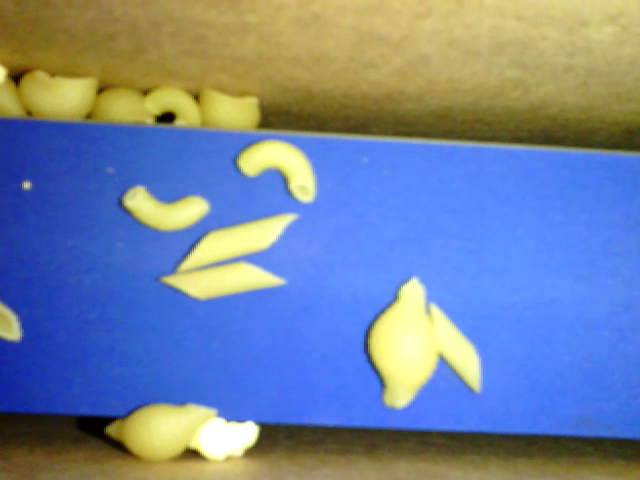elbow: (238, 139, 314, 202), (120, 185, 209, 231), (144, 87, 200, 125)
penne: (174, 211, 299, 272), (157, 258, 288, 300), (430, 301, 481, 395), (1, 302, 22, 341)
shell: (365, 275, 441, 408), (18, 70, 99, 118), (91, 85, 157, 125), (199, 87, 260, 130)
